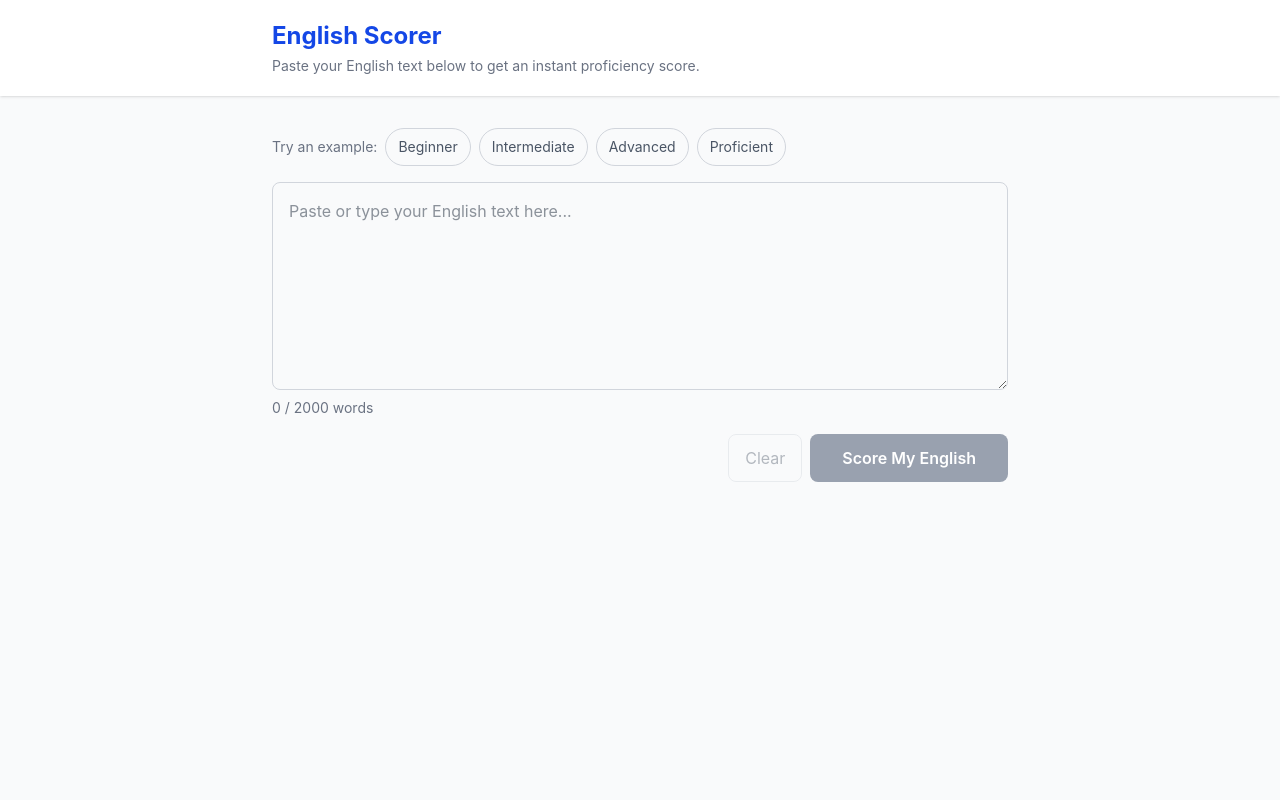
Test: App › shows client-side validation error when fewer than 5 words are entered
Step 1. Type "one two three" into the text box → (640, 286), box [272,182,1008,390]
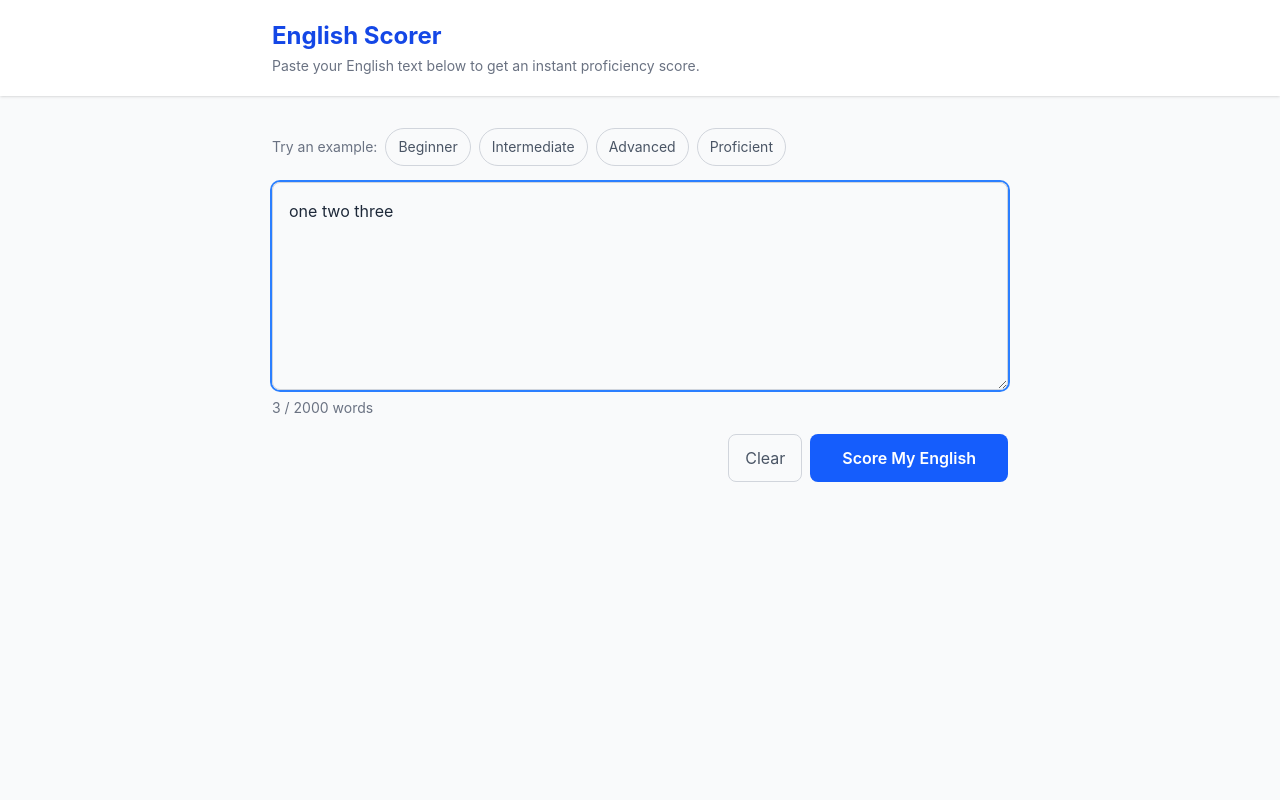
Step 2. Click the button "Score My English" → click(909, 458), box [810,434,1008,482]
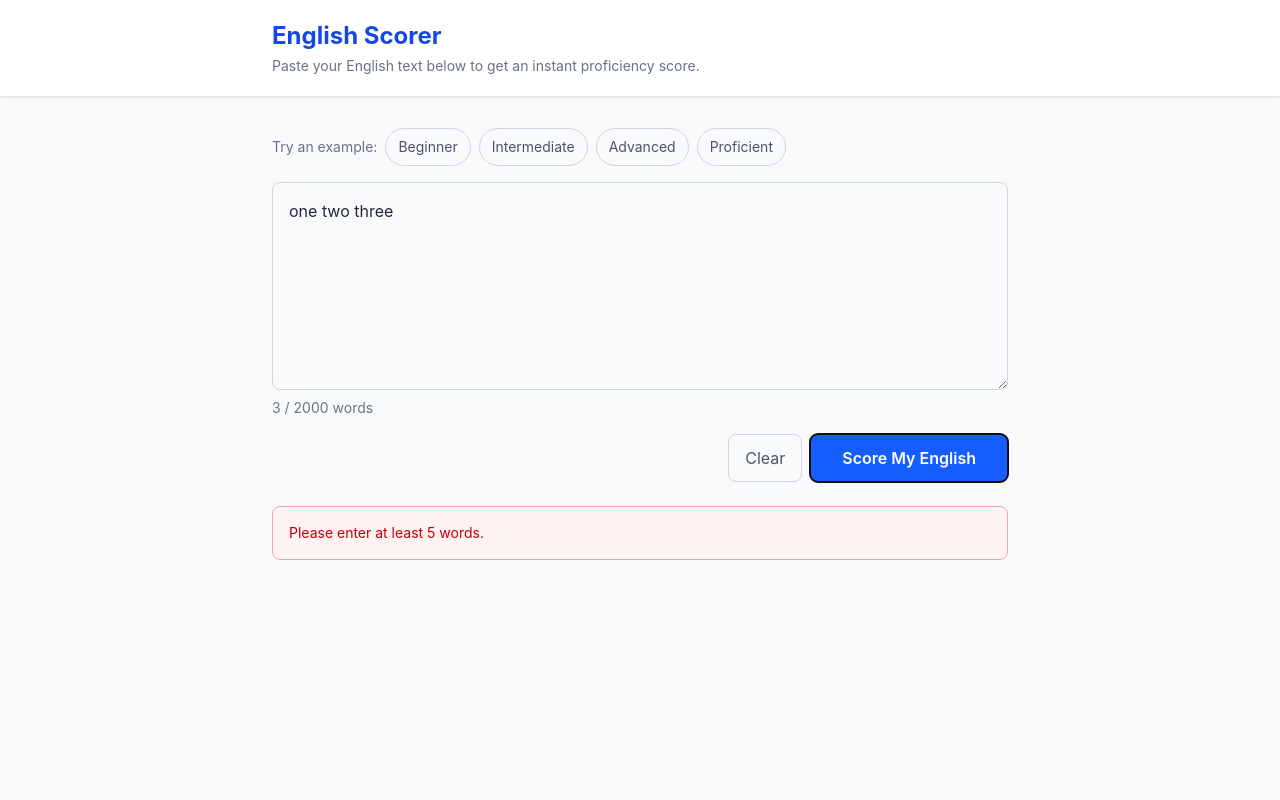
Expected: the message shows "Please enter at least 5 words", [289,524,484,541]
